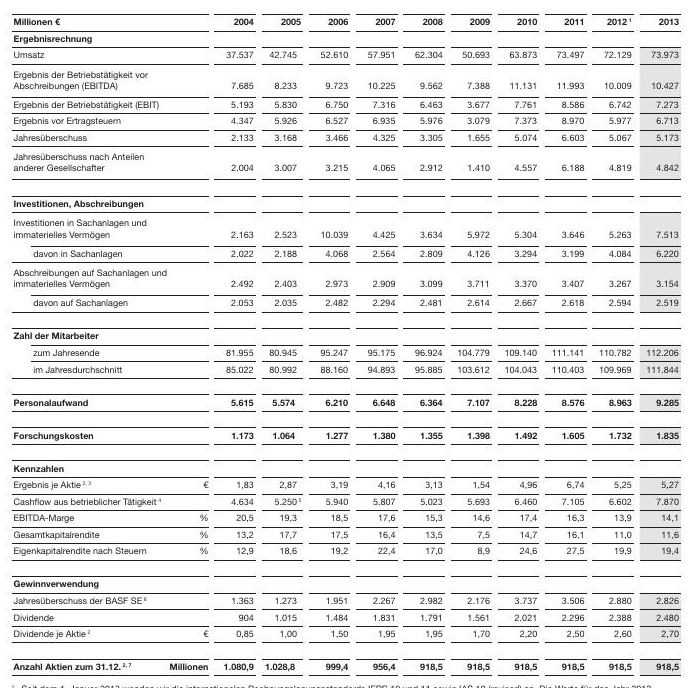table: (0, 0, 695, 688)
